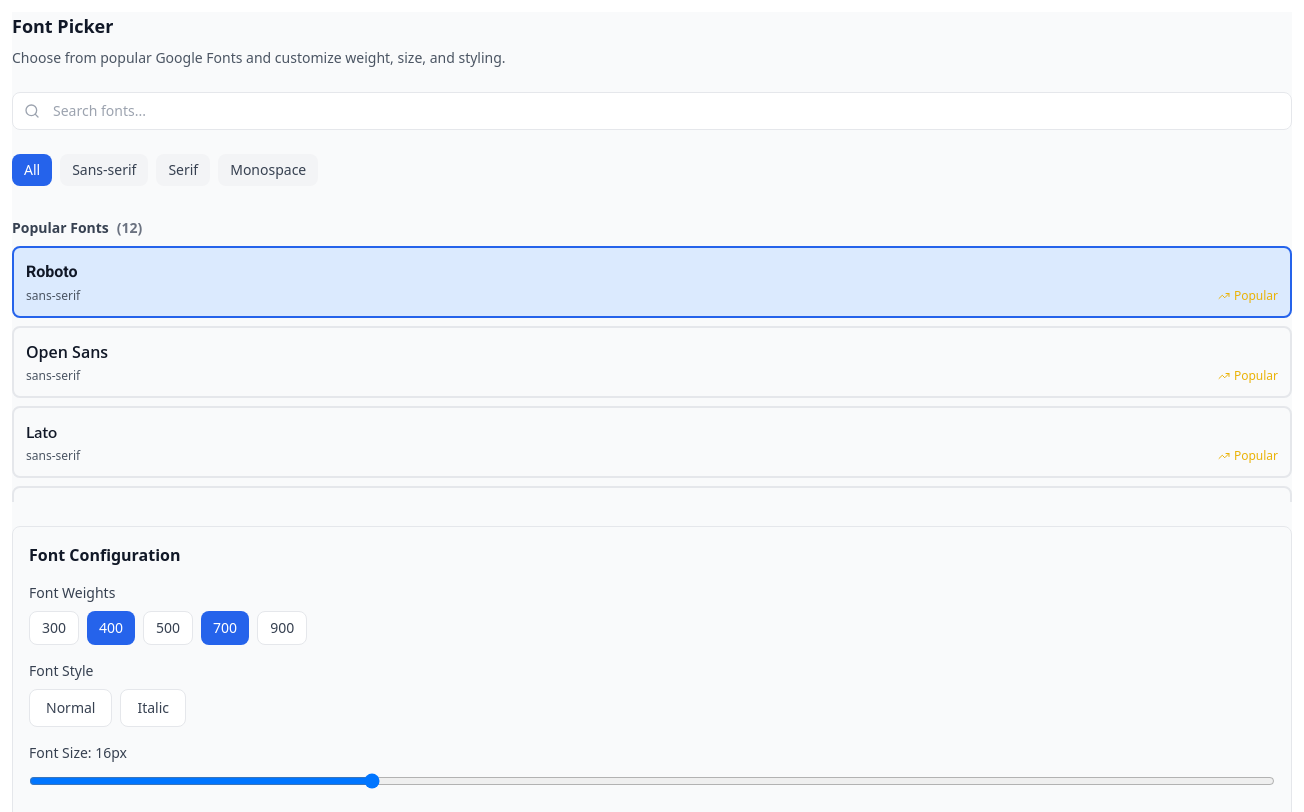
Test: FontPicker › Font Search › should show no results for non-matching search
Step 1. Type "NonexistentFont" into the field with placeholder "Search fonts..." → point(652, 111), box [12,92,1292,130]
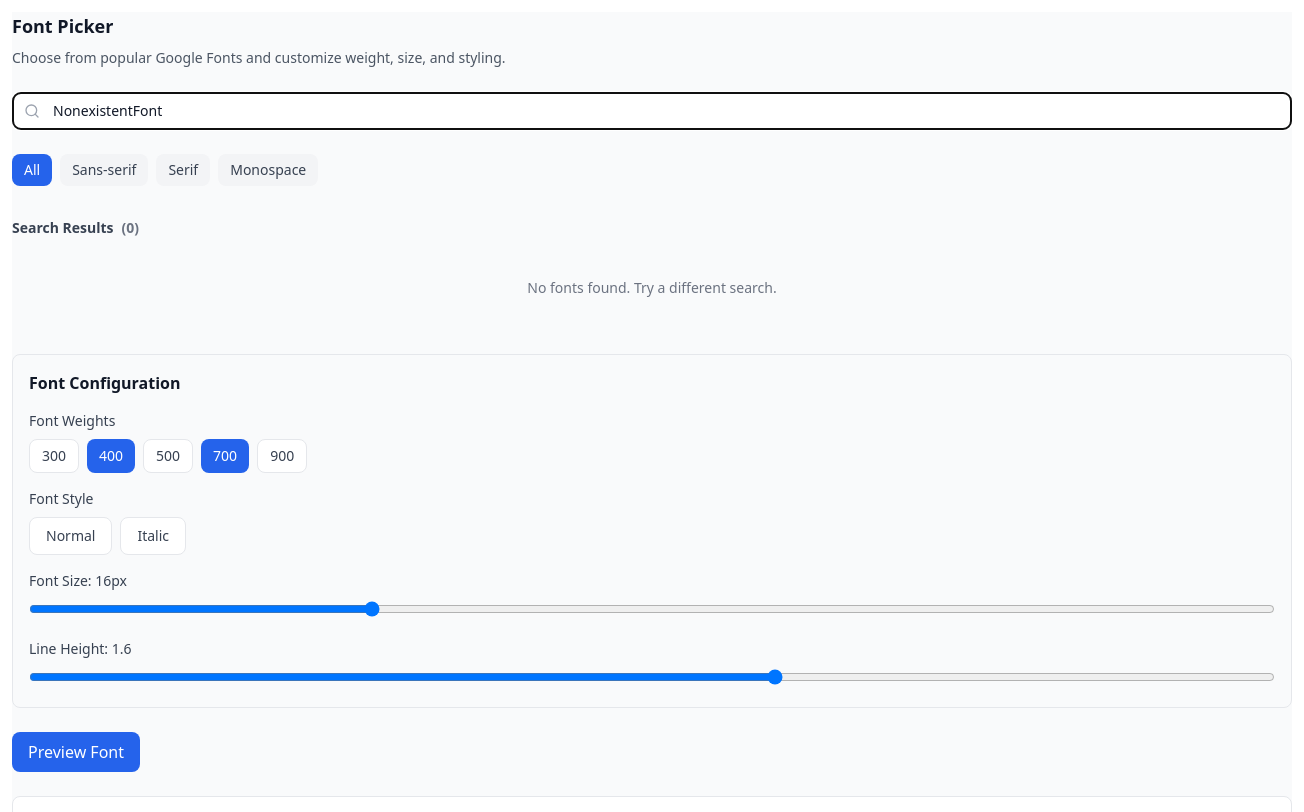
Result: the text "No fonts found. Try a different search." is shown at [527,278,777,297]
